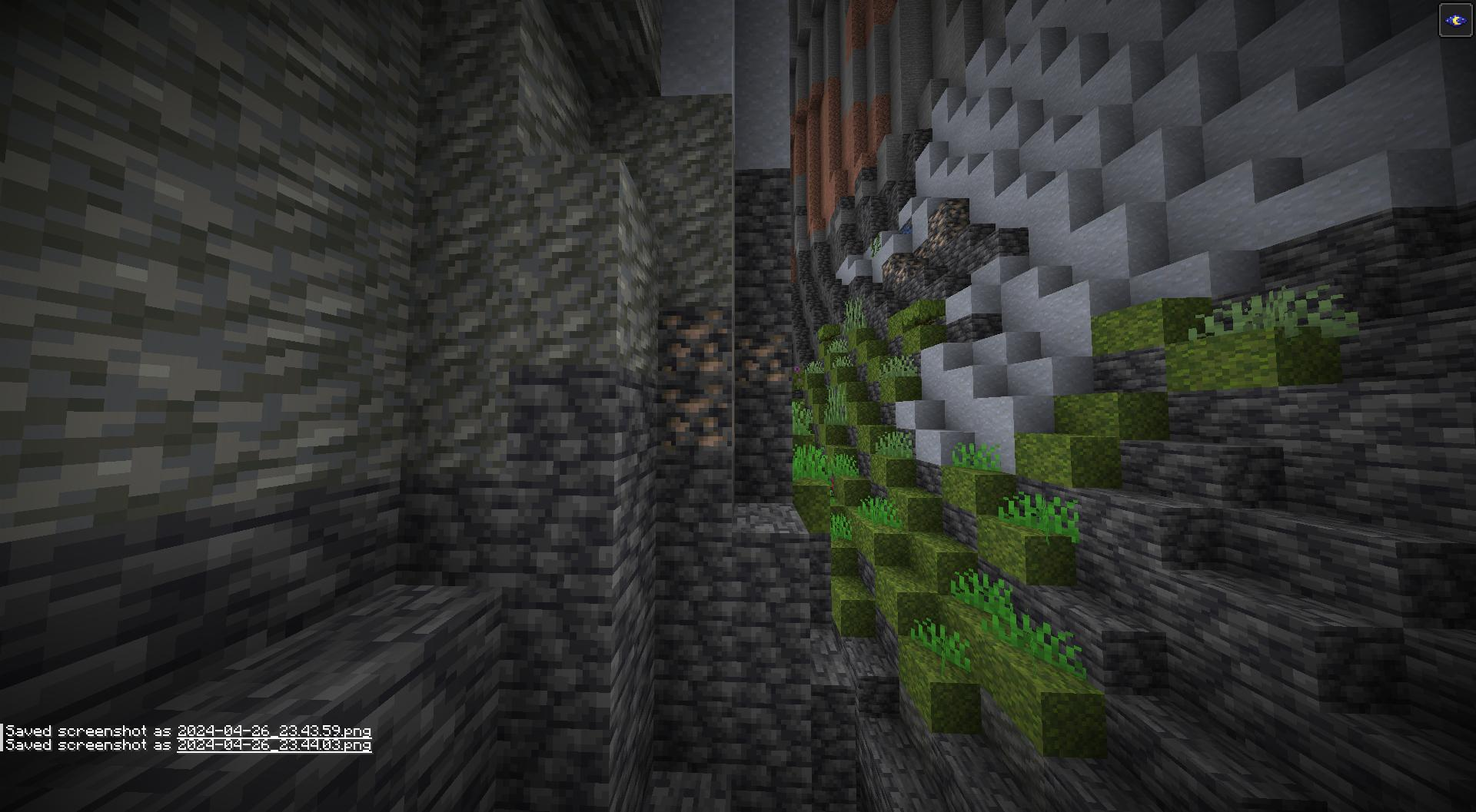iron ore: (653, 304, 731, 378), (650, 379, 726, 451), (733, 329, 791, 388), (929, 201, 971, 223), (895, 257, 925, 282), (927, 229, 963, 247), (883, 254, 905, 274)
